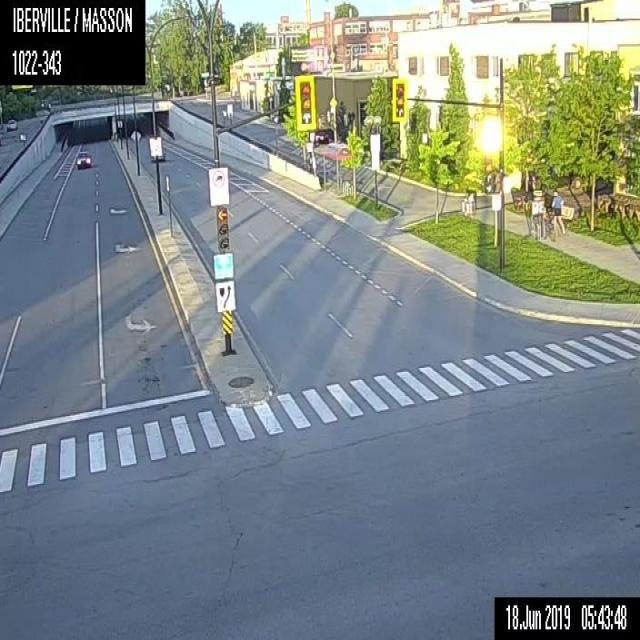pedestrian: (549, 190, 566, 238)
vehicle: (75, 149, 90, 168), (315, 128, 327, 145), (5, 117, 17, 131), (151, 150, 164, 162)
